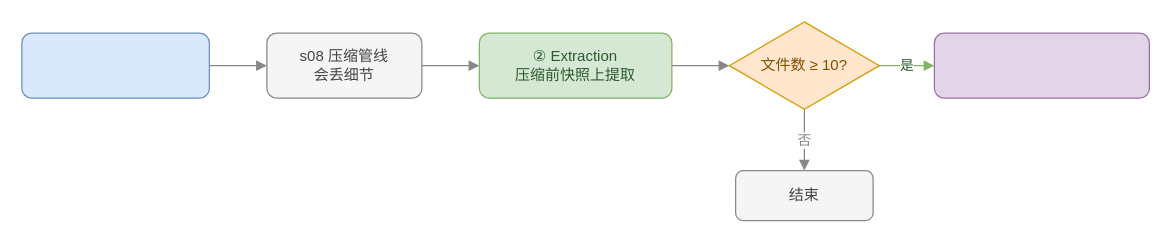
This 1171x243 diagram has some shape labels left out. Each missing label, with the centre of its shape:
① Selection 每轮开头·选≤5条注入: the point at 115,65
③ Consolidation LLM 去重合并: the point at 1041,65
